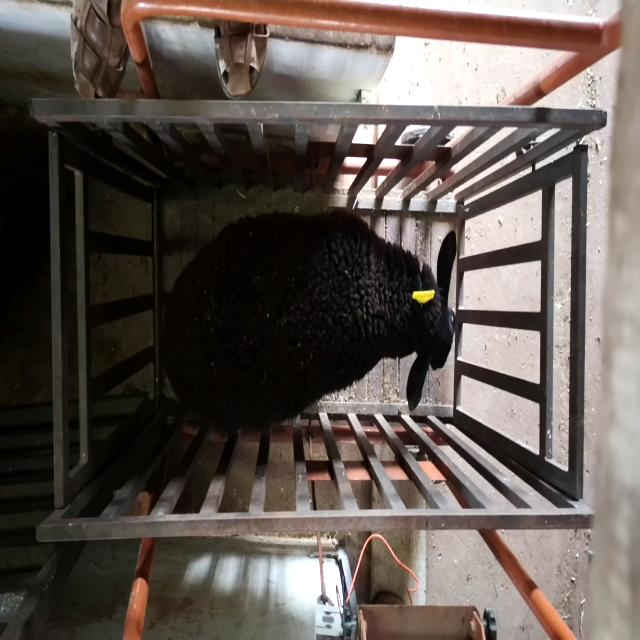sheep: (160, 208, 457, 435)
